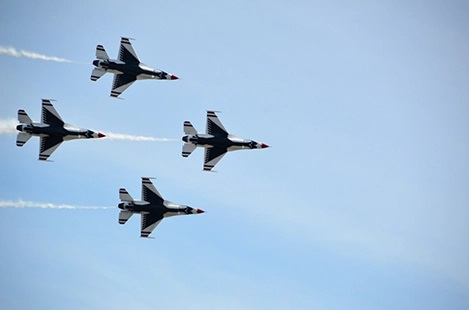plane: (109, 175, 212, 242), (180, 107, 276, 175), (88, 35, 180, 102), (15, 100, 107, 163)
